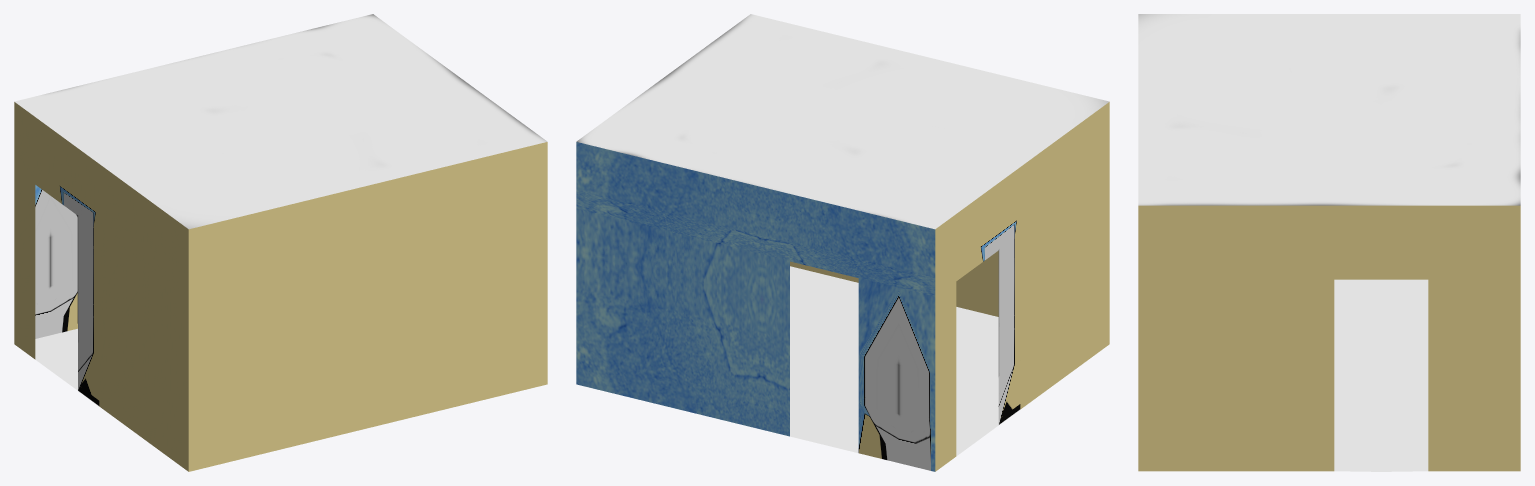
File: room001.fbx
The picture shows the model from 3 angles, left to right: view 1: azimuth 30°, elevation 25°; view 2: azimuth 150°, elevation 25°; view 3: azimuth 270°, elevation 25°; orthographic projection. The views are drawn at different scales.
Parts seen in each view (by area): view 1: room.001; view 2: room.001; view 3: room.001.
Boxes of the visible parts, x1,y1,x2,y2 form: room.001: (14,14,547,471); room.001: (576,14,1109,471); room.001: (1138,14,1520,471).
Bounding box in the file's own units: 355 × 229 × 298.
